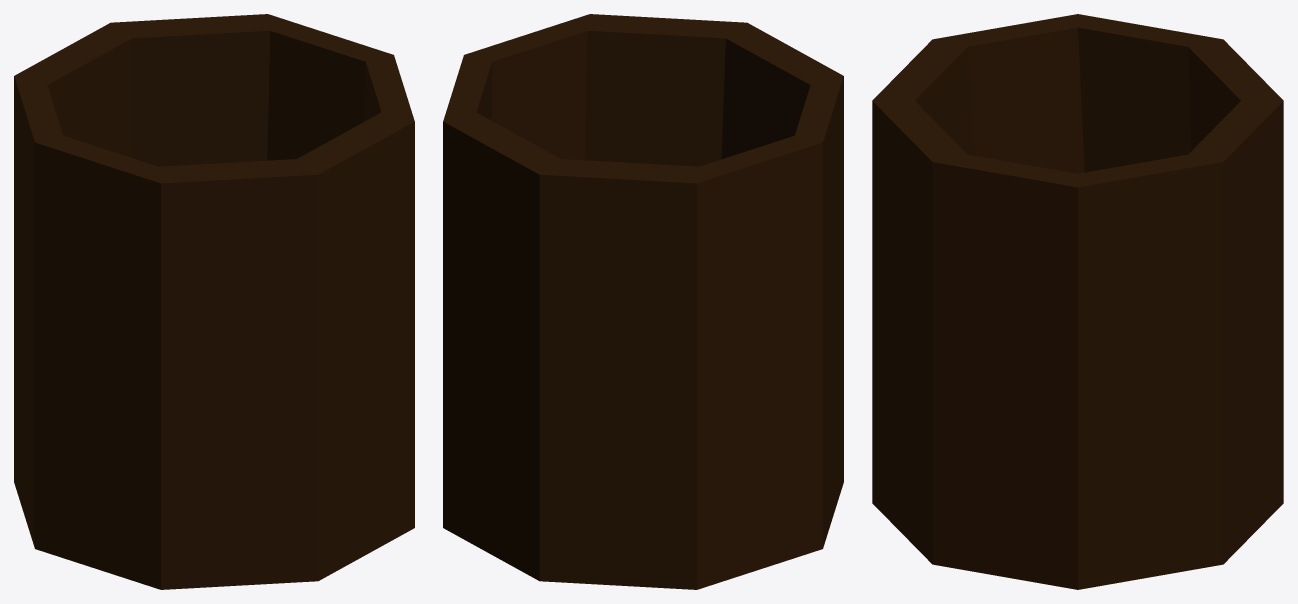
Rendered from 水溝蓋.fbx.
The picture shows the model from 3 angles, left to right: view 1: azimuth 30°, elevation 25°; view 2: azimuth 150°, elevation 25°; view 3: azimuth 270°, elevation 25°; orthographic projection.
Visible parts, largest first — view 1: 圓柱體; view 2: 圓柱體; view 3: 圓柱體.
Boxes of the visible parts, box(x1,y1,x2,y2) form: 圓柱體: box(14, 14, 414, 589); 圓柱體: box(443, 14, 843, 589); 圓柱體: box(872, 14, 1283, 589).
Bounding box in the file's own units: 194 × 209 × 194.
